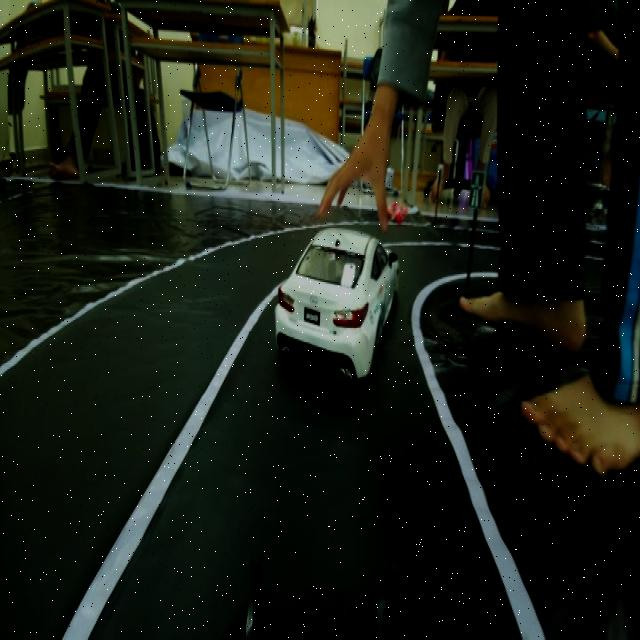car: (274, 222, 400, 386)
highway_entry: (460, 165, 488, 228)
